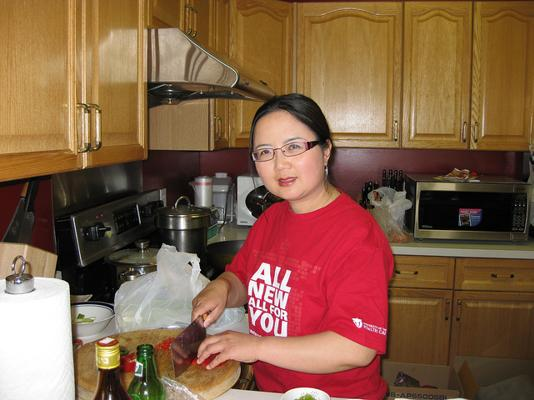person: (193, 93, 396, 400)
